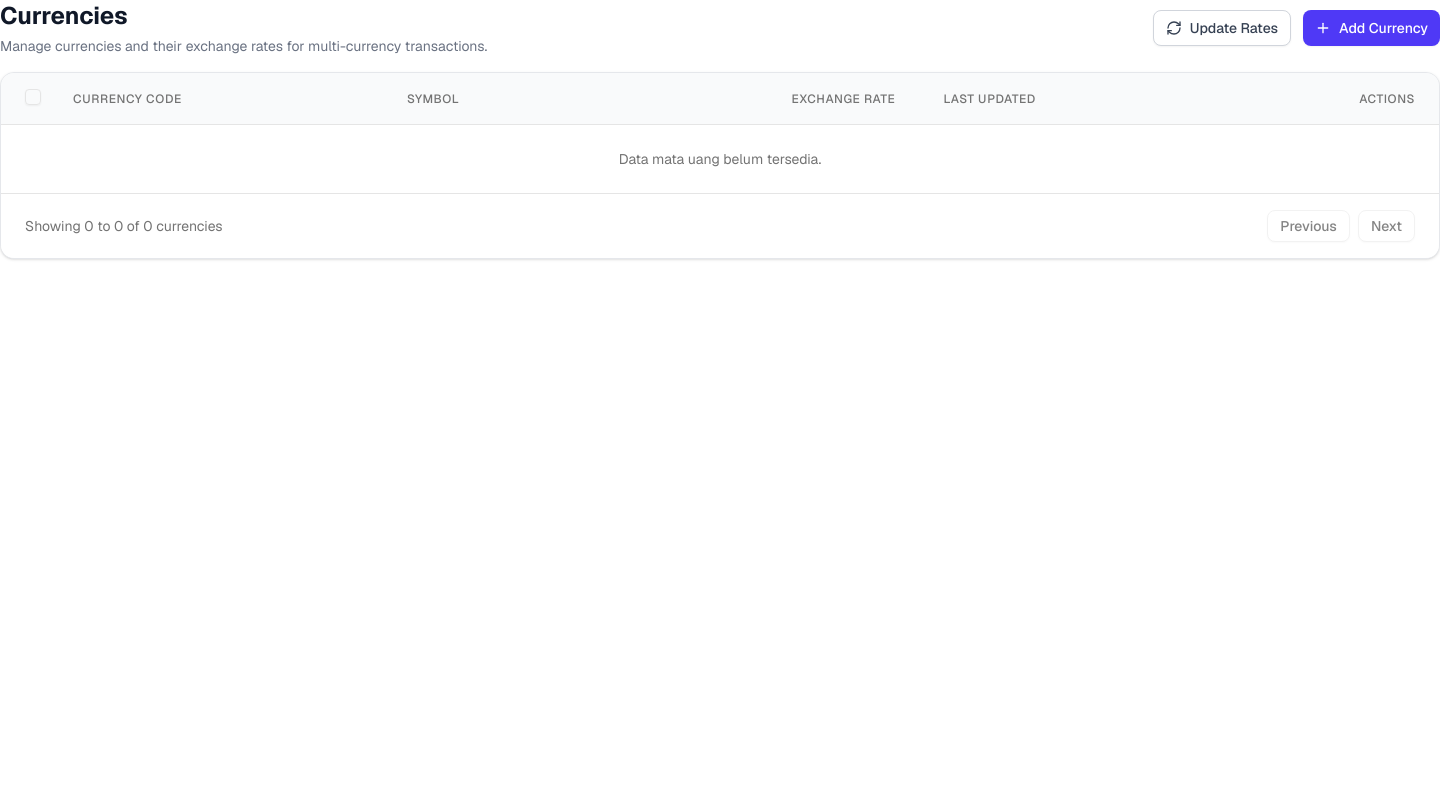
Test: accounting-settings integration errors › shows 409 error message on add currency
Click the button "Add Currency" at (1372, 28), box [1303,10,1439,46]
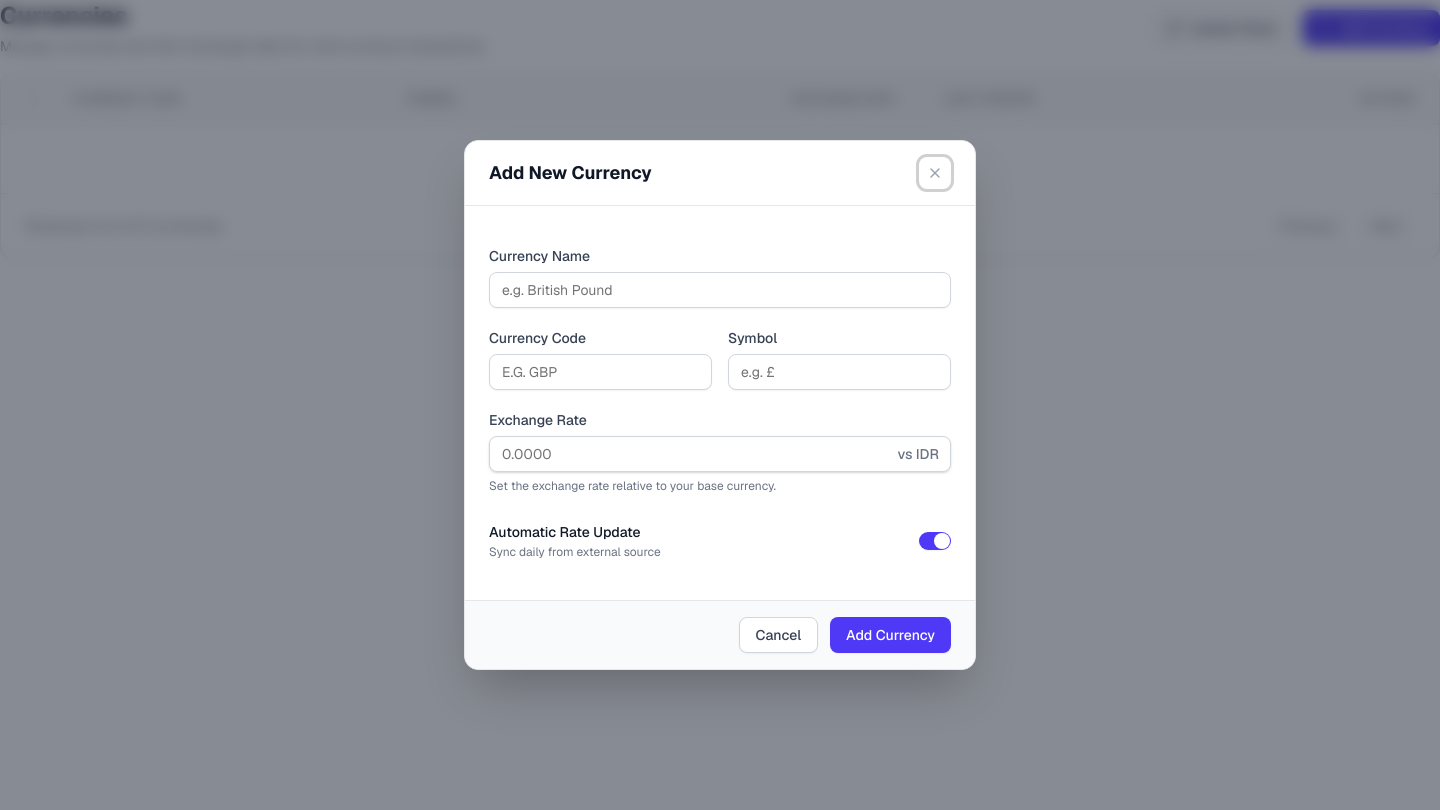
Click the button "Add Currency" at (891, 635), box [830,617,951,653]
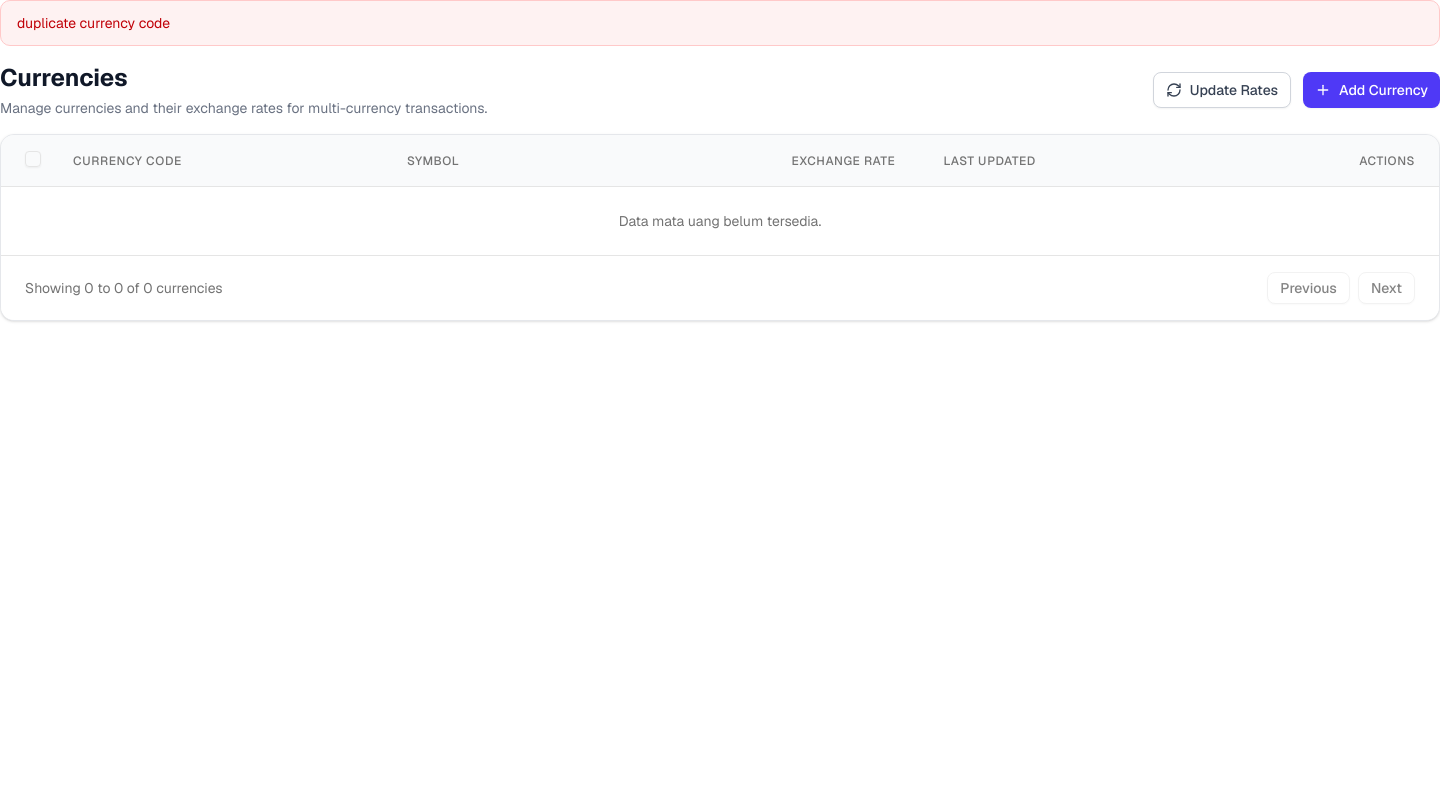
Expected: the text "duplicate currency code" is shown, [0,0,1439,46]
